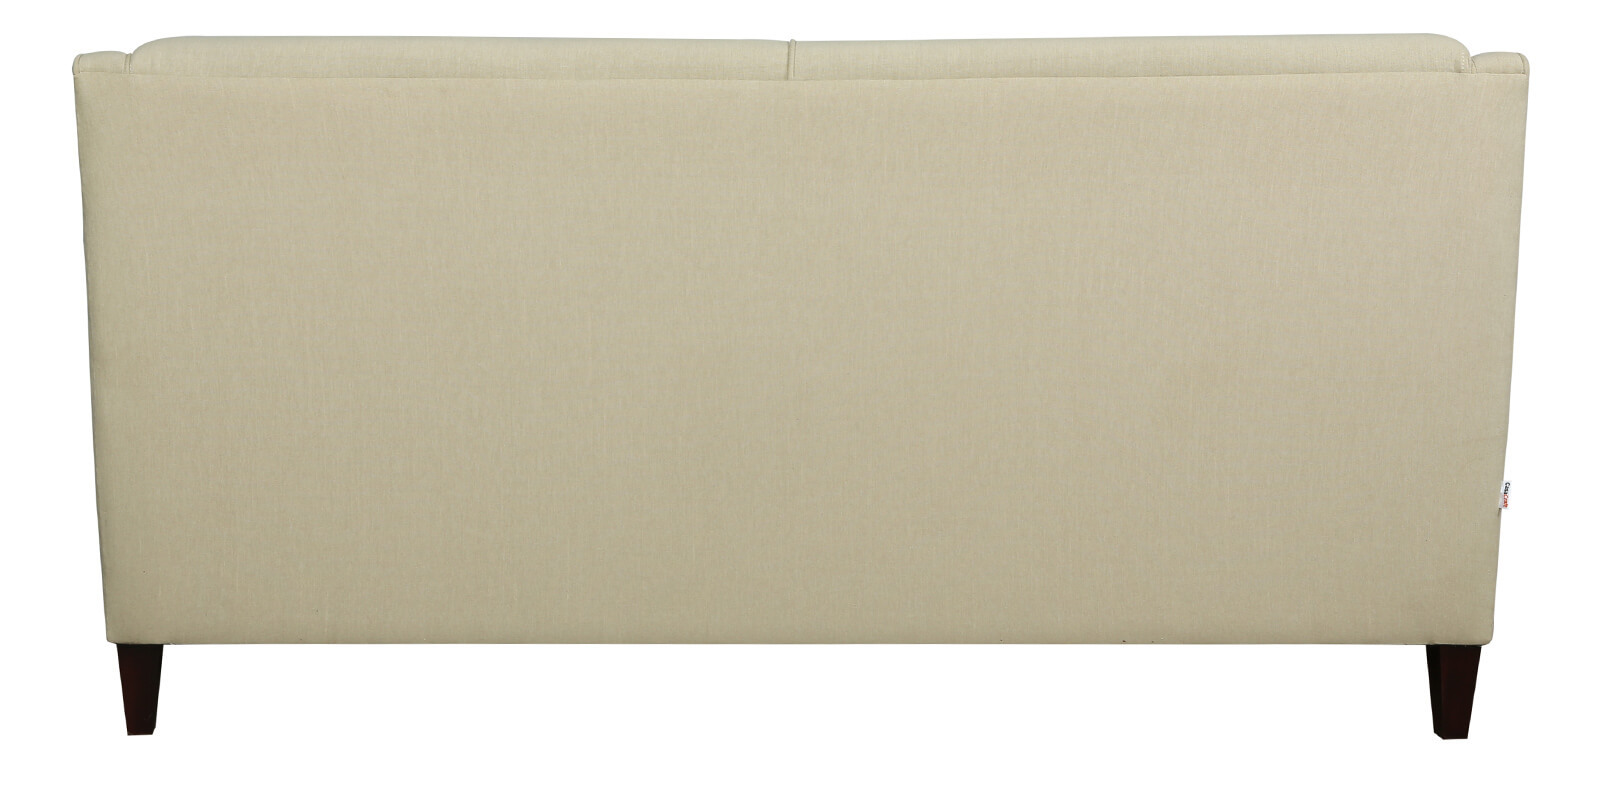Oscar Three Seater Sofa in Beige Colour by CasaCraft: (72, 34, 1528, 736)
